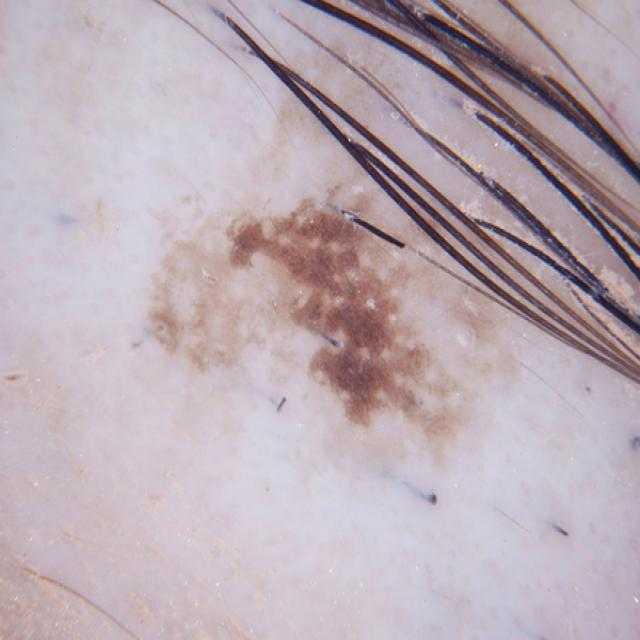Skin-Cancer Pigmented benign keratosis: (56, 31, 593, 640)
